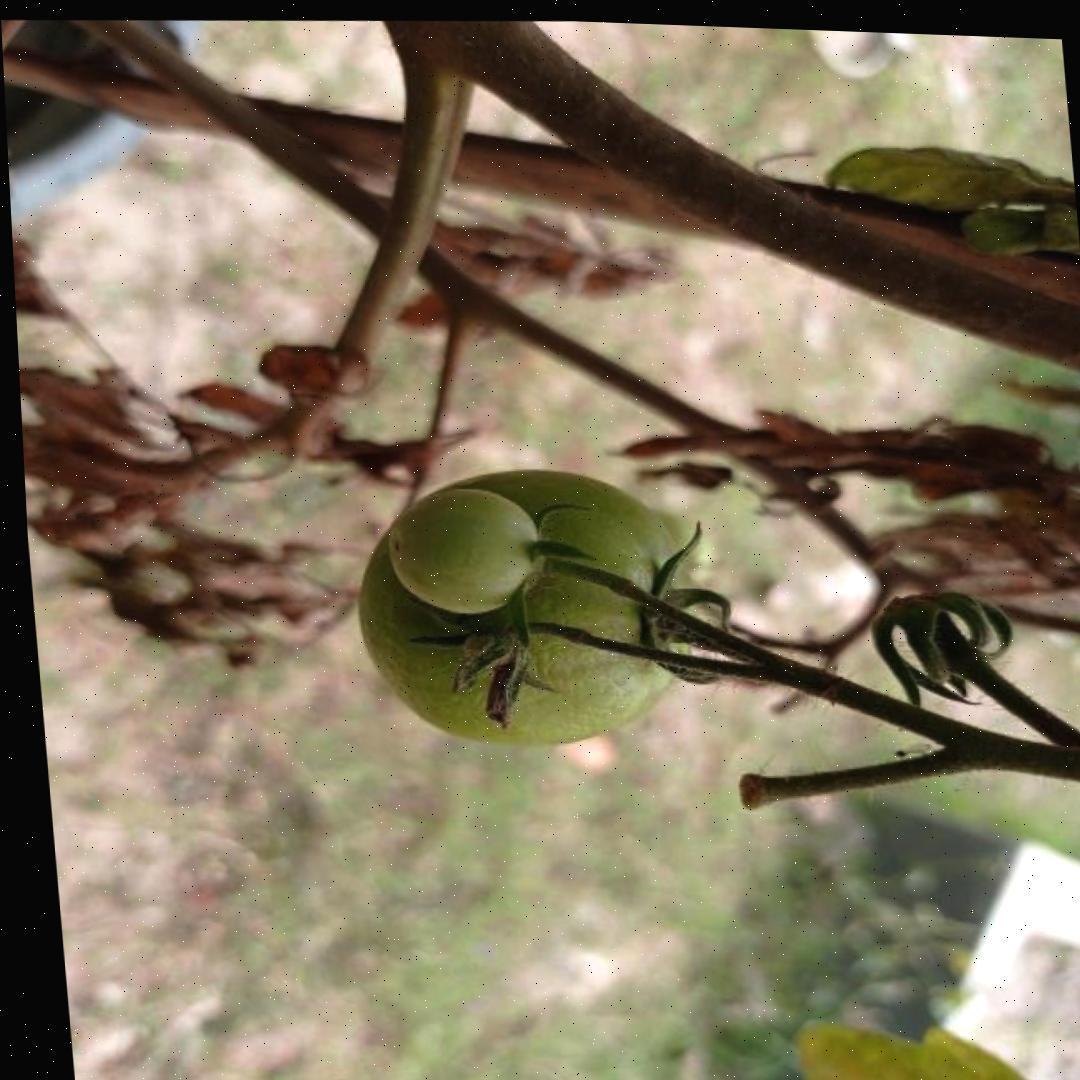mentah: (341, 452, 713, 758), (380, 478, 551, 620)
